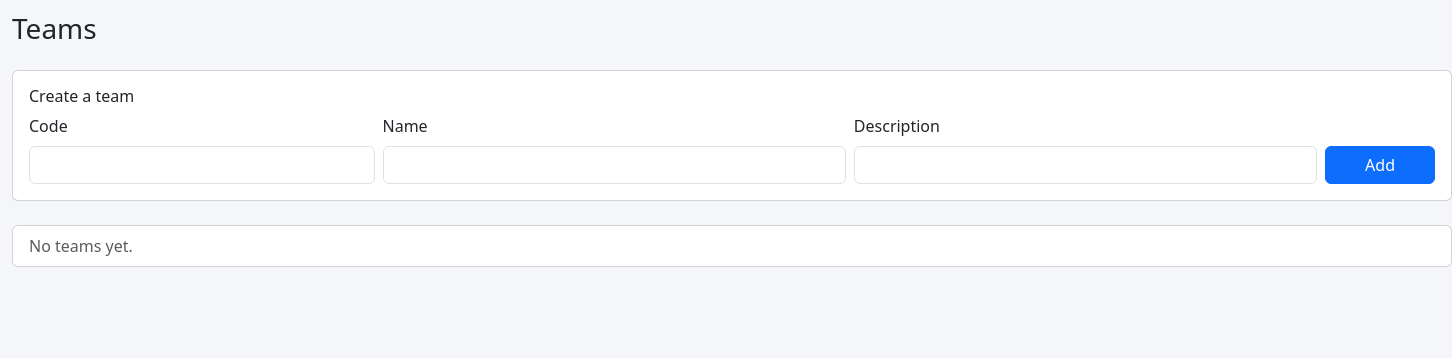
TeamsPage › shows the server validation error clearly, not a raw exception
Expected: the list item "No teams yet." is shown, [13, 226, 1451, 266]
In the field labelled "Code": (202, 165) [29, 146, 374, 184], type "WAYTOOLONGCODE"
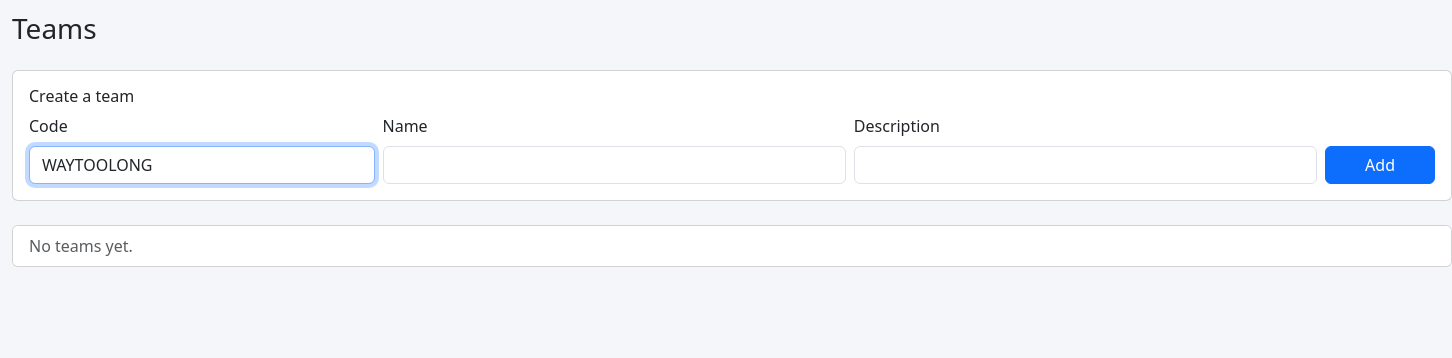
In the field labelled "Name": (614, 165) [382, 146, 846, 184], type "Oops"
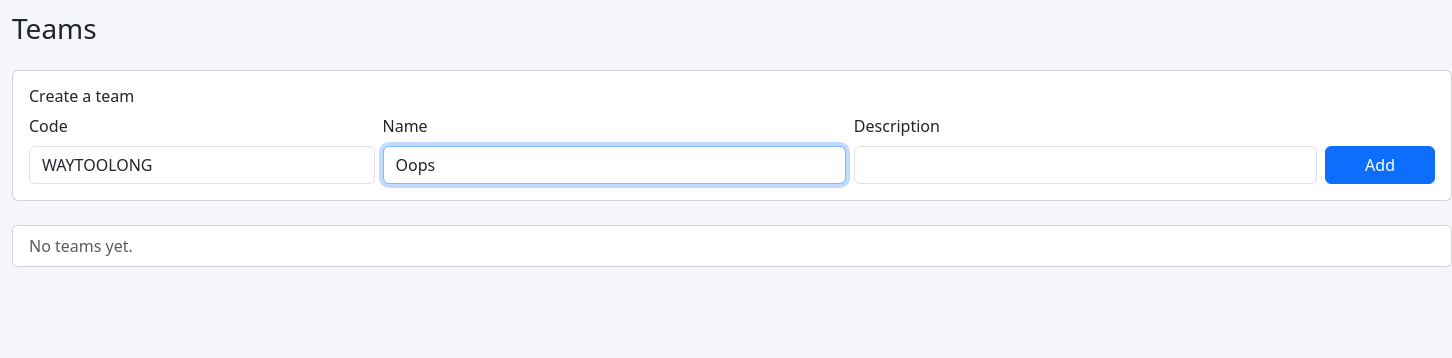
Click the button "Add": (1380, 165) [1325, 146, 1435, 184]
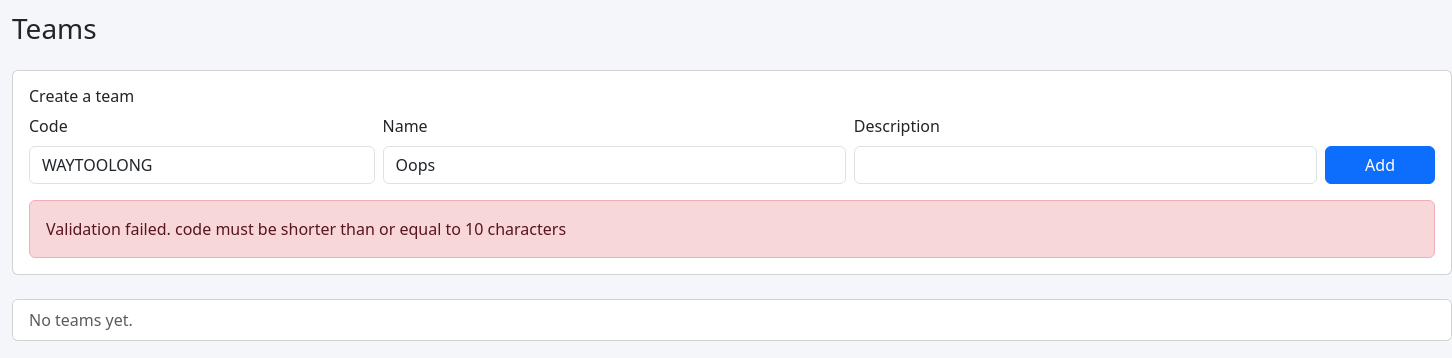
Result: the text "Validation failed. code must be shorter than or equal to 10 characters" is shown at [29, 200, 1435, 258]
